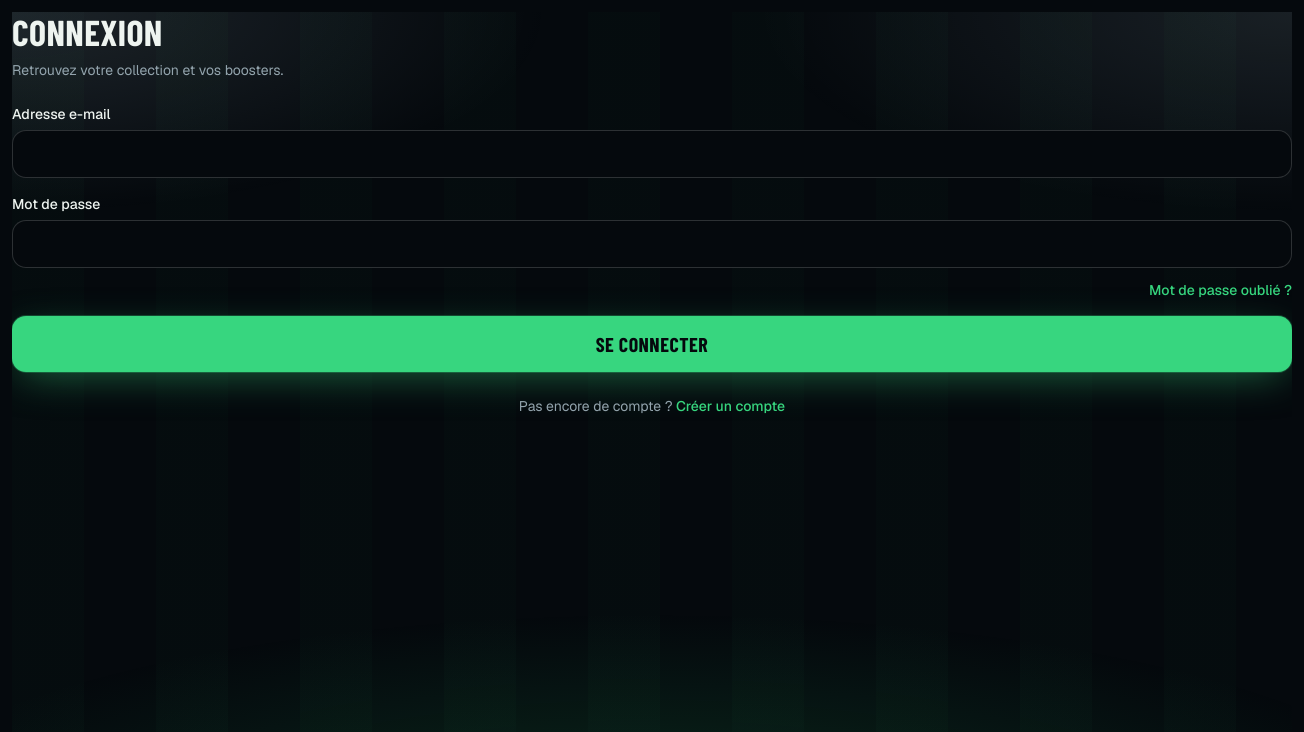
Test case: écran de connexion › transmet la page de retour et garde l'adresse après un refus
This screenshot has width=1304, height=732.
In the field labelled "Adresse e-mail": (652, 154) 12,130 -> 1292,178, type "joueur@rugby-tcg.test"
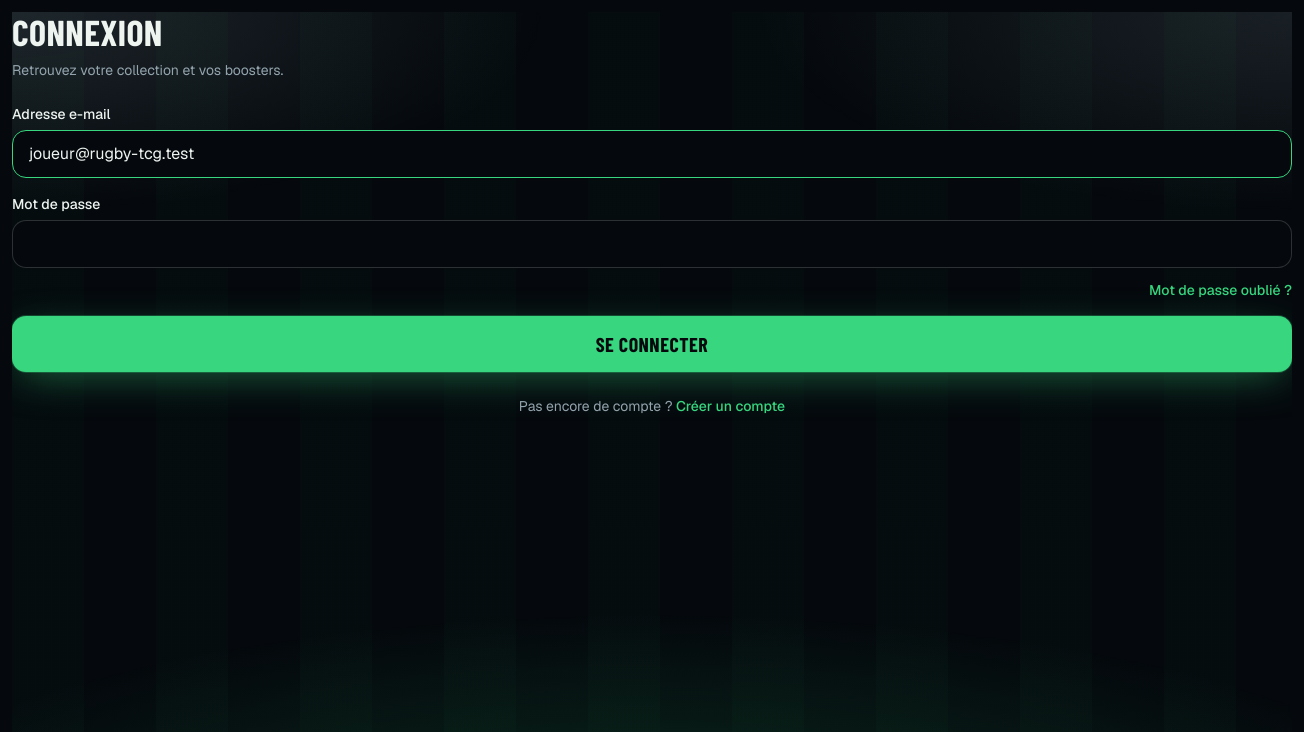
In the password field labelled "Mot de passe": (652, 244) 12,220 -> 1292,268, type "faux"
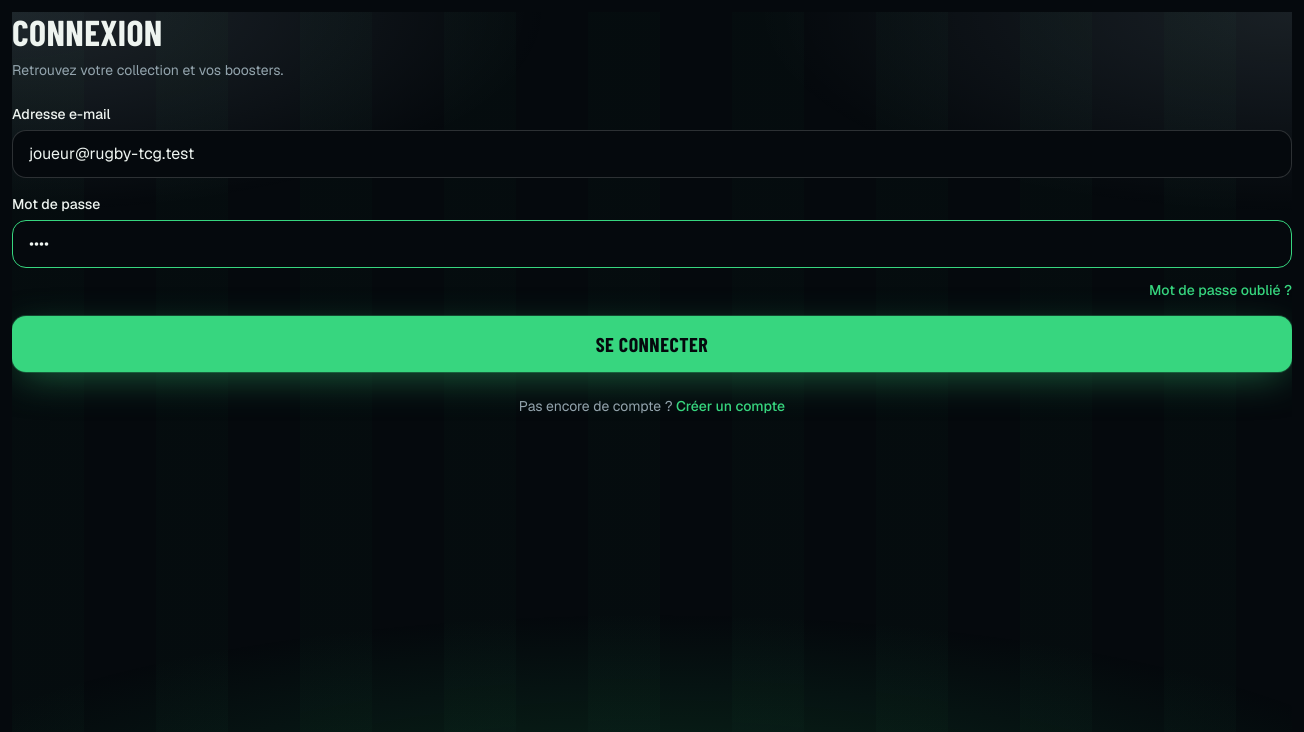
Click the button "Se connecter": (652, 344) 12,316 -> 1292,372
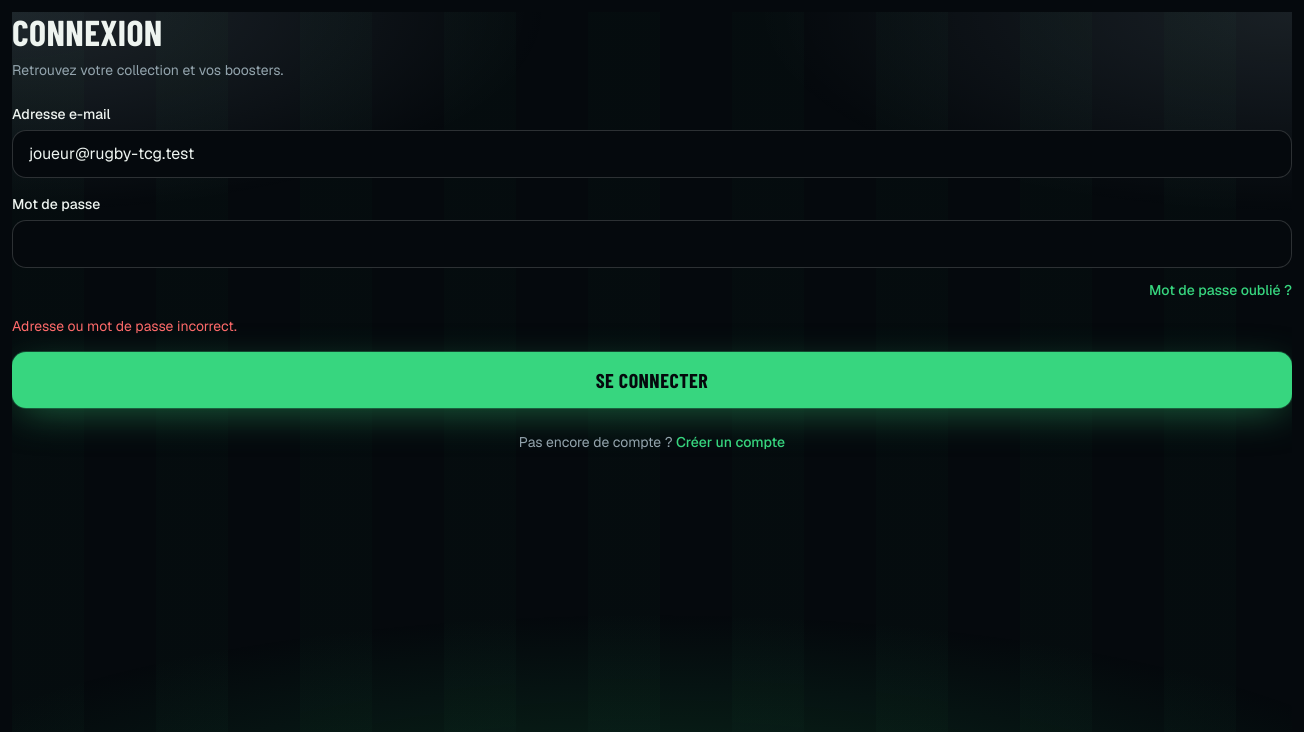
Result: the message shows "incorrect" at 12,317 -> 237,335
